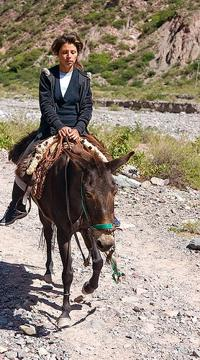person: (1, 34, 94, 227)
